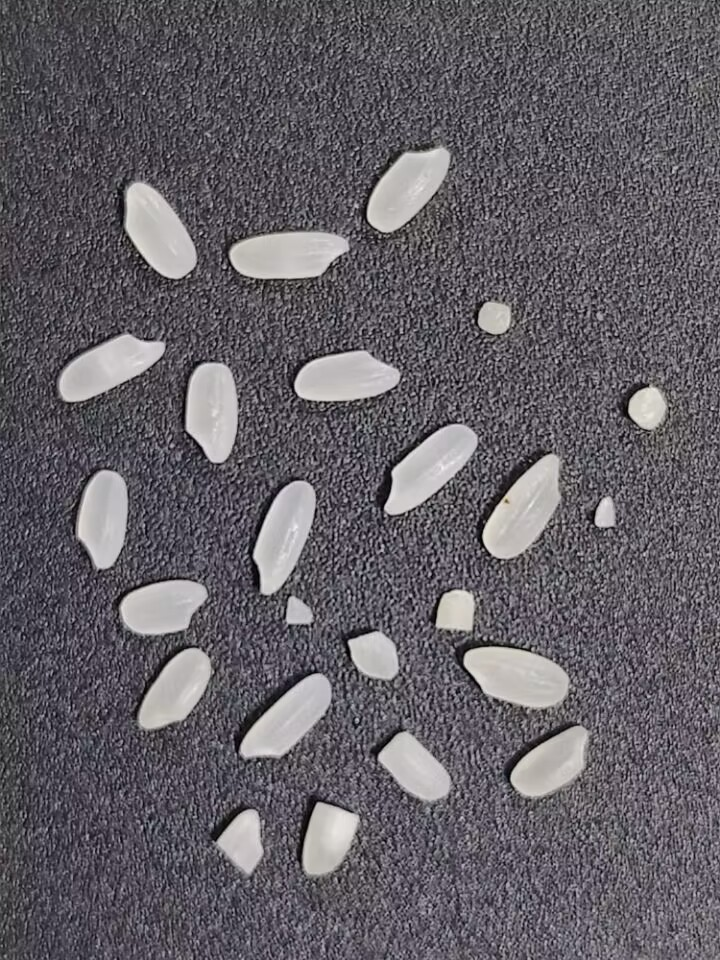broken: (375, 728, 455, 805), (298, 800, 362, 878), (213, 806, 266, 878), (348, 631, 399, 682), (625, 385, 668, 435), (433, 588, 477, 635), (588, 490, 624, 533), (476, 299, 513, 336), (283, 596, 316, 628)
rice: (383, 423, 480, 517), (480, 453, 564, 561), (364, 142, 455, 235), (56, 329, 168, 404), (251, 477, 318, 601), (238, 673, 333, 760), (121, 180, 199, 282), (285, 347, 408, 408), (109, 574, 219, 637), (463, 646, 570, 710), (134, 646, 213, 729), (228, 230, 350, 281), (182, 359, 241, 464), (74, 465, 129, 571), (511, 725, 589, 797)
